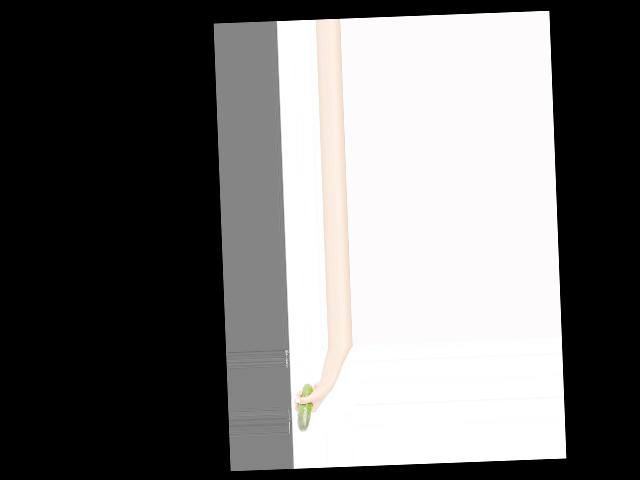cucumber: (295, 384, 314, 432)
